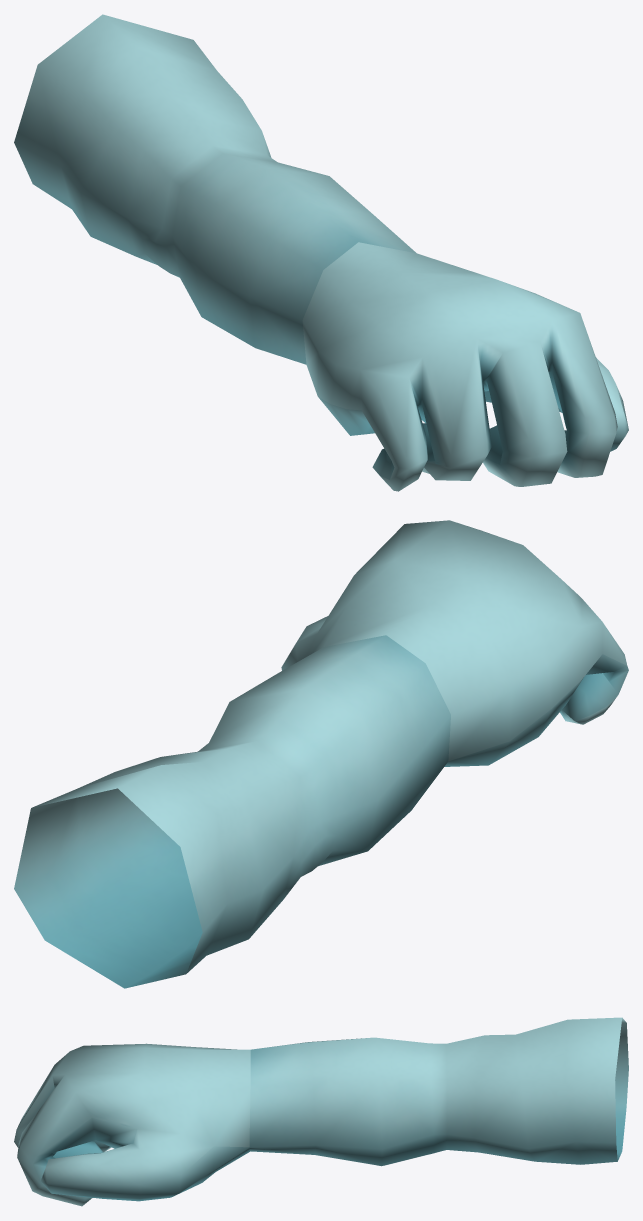
Rendered from eff_mesh_xiaoquanquan_01.FBX.
3 renders of one model, top to bottom at view 1: azimuth 30°, elevation 25°; view 2: azimuth 150°, elevation 25°; view 3: azimuth 270°, elevation 25°, orthographic. The views are drawn at different scales.
Visible parts, largest first — view 1: Pet_WanLi; view 2: Pet_WanLi; view 3: Pet_WanLi.
Part boxes in pixels (x1=…): Pet_WanLi: x1=14, y1=14, x2=628, y2=491; Pet_WanLi: x1=14, y1=520, x2=628, y2=988; Pet_WanLi: x1=14, y1=1017, x2=628, y2=1206.
Bounding box in the file's own units: 0.1307 × 0.1009 × 0.3653.
